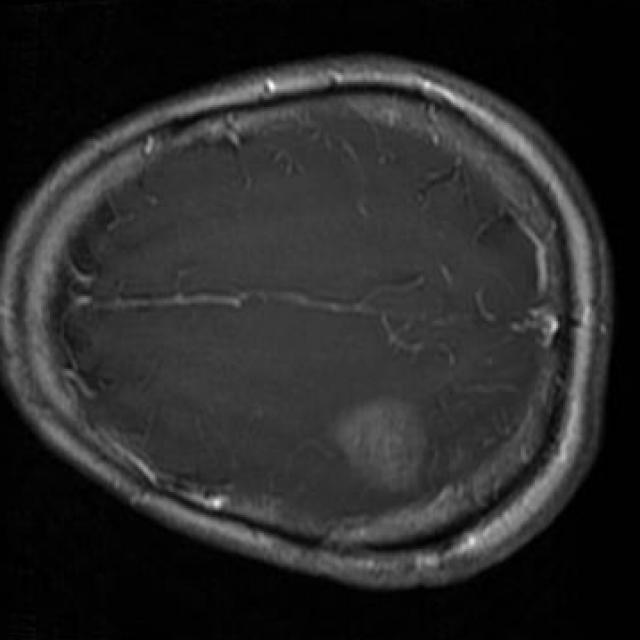glioma: (330, 398, 428, 494)
